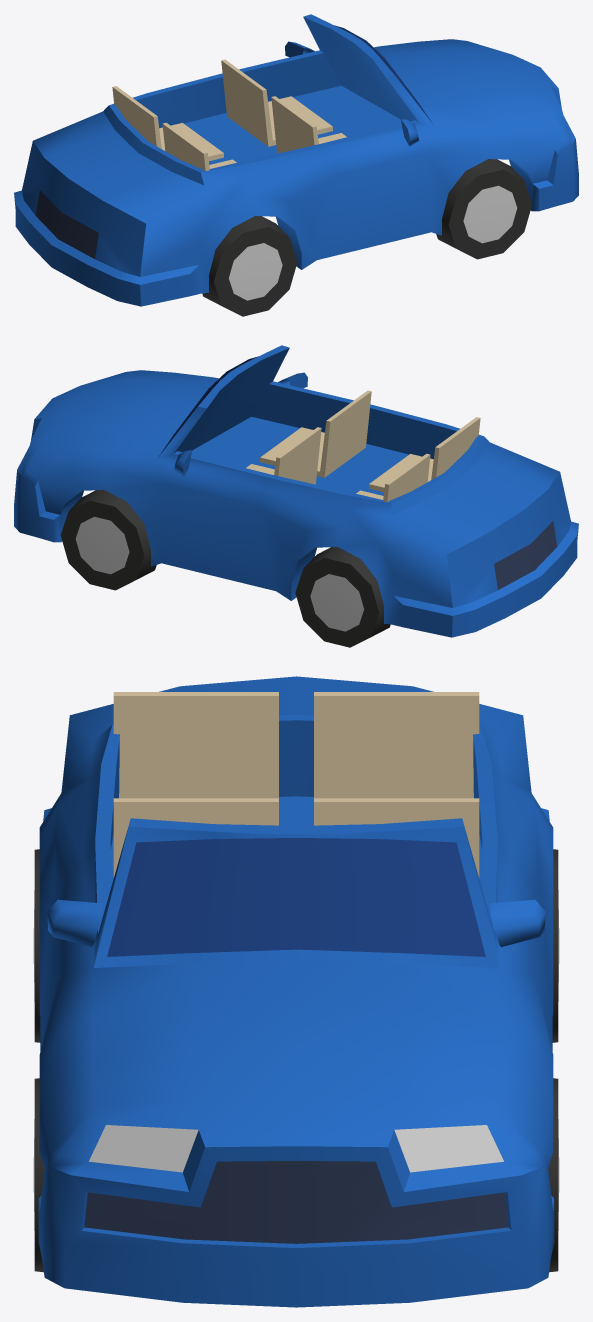
The model's file is car_open.fbx.
3 views of the same model, one above another, from view 1: azimuth 30°, elevation 25°; view 2: azimuth 150°, elevation 25°; view 3: azimuth 270°, elevation 25° (orthographic). The views are drawn at different scales.
Parts seen in each view (by area): view 1: car_open_color, car_wheel, car_open; view 2: car_open_color, car_wheel, car_open; view 3: car_open_color, car_open, car_wheel.
Part boxes in pixels (<box>): car_open_color: <box>14,14,578,306</box>; car_wheel: <box>202,159,532,316</box>; car_open: <box>35,25,429,258</box>; car_open_color: <box>14,345,578,637</box>; car_wheel: <box>60,490,390,647</box>; car_open: <box>163,356,557,589</box>; car_open_color: <box>38,676,554,1307</box>; car_open: <box>84,692,508,1243</box>; car_wheel: <box>33,849,559,1272</box>.
Bounding box in the file's own units: 19.93 × 7.21 × 9.28.
